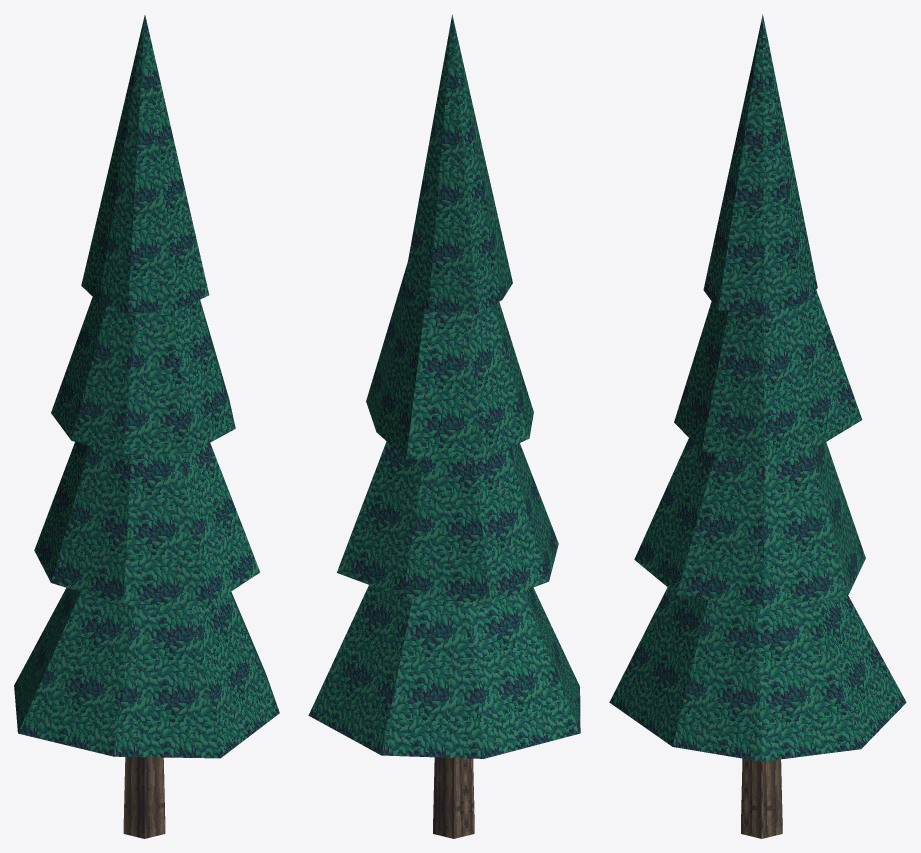
File: pine_a.glb
3 renders of one model, left to right at view 1: azimuth 30°, elevation 25°; view 2: azimuth 150°, elevation 25°; view 3: azimuth 270°, elevation 25°, orthographic.
Visible parts, largest first — view 1: pine_a; view 2: pine_a; view 3: pine_a.
Part boxes in pixels (x1=…): pine_a: x1=14, y1=15, x2=279, y2=838; pine_a: x1=308, y1=14, x2=580, y2=838; pine_a: x1=609, y1=14, x2=906, y2=838.
Bounding box in the file's own units: 2.26 × 7.1 × 2.35.
Materials: 2 (2 with a texture image).
